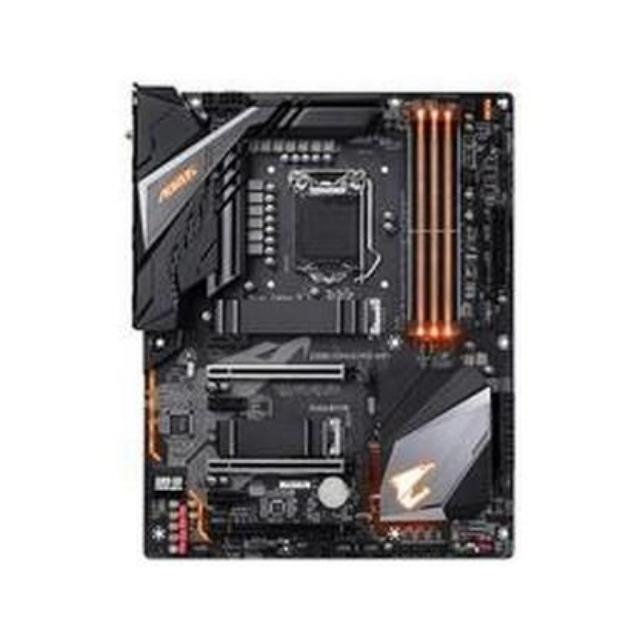Mainboard: (121, 74, 519, 566)
